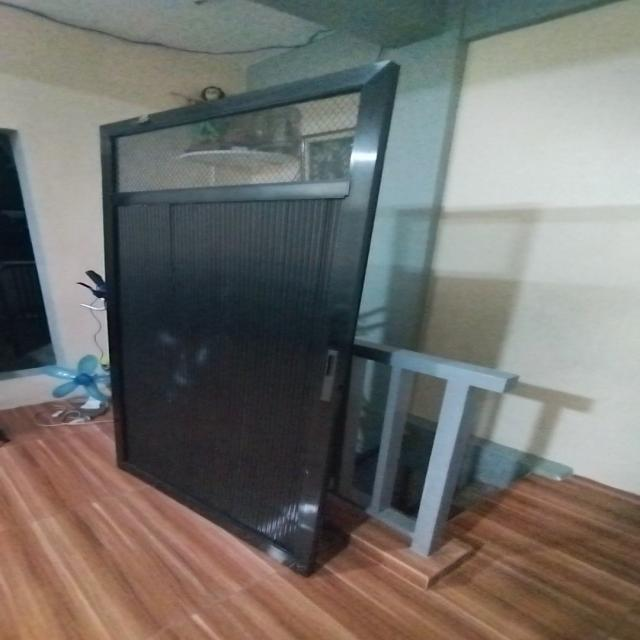door: (86, 62, 401, 581)
